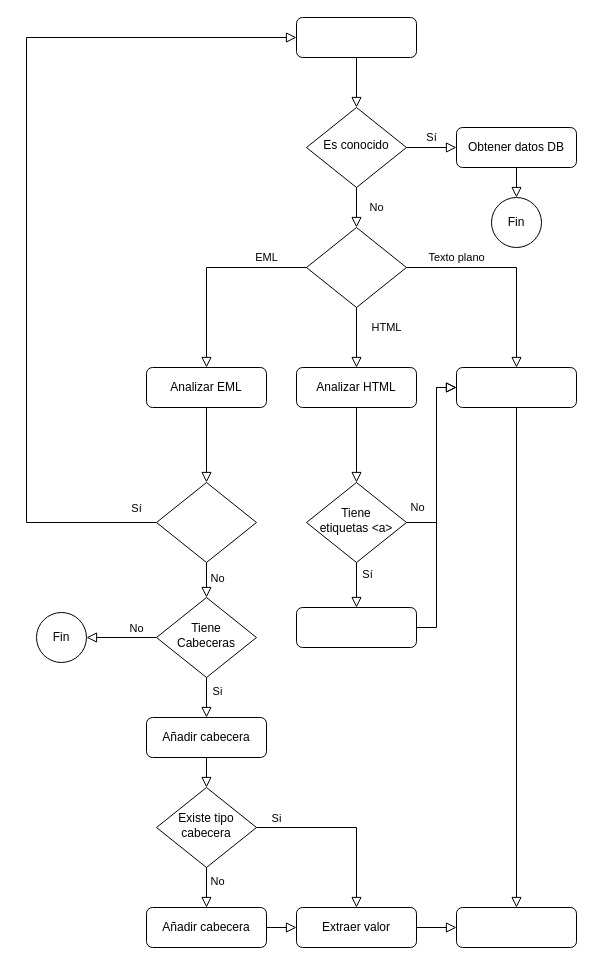
Image size: 594x965. Some labels were removed from this diagram. The shapes that lost their labels are listed below. From the top down, each one's centre as x and y in pixels, then its label:
At (356,37): "Nuevo mensaje".
At (356,267): "Formato".
At (516,387): "Analizar texto".
At (206,522): "Tiene mensajes".
At (356,627): "Analizar etiqueta <a>".
At (516,927): "Buscar y agregar patrones".
